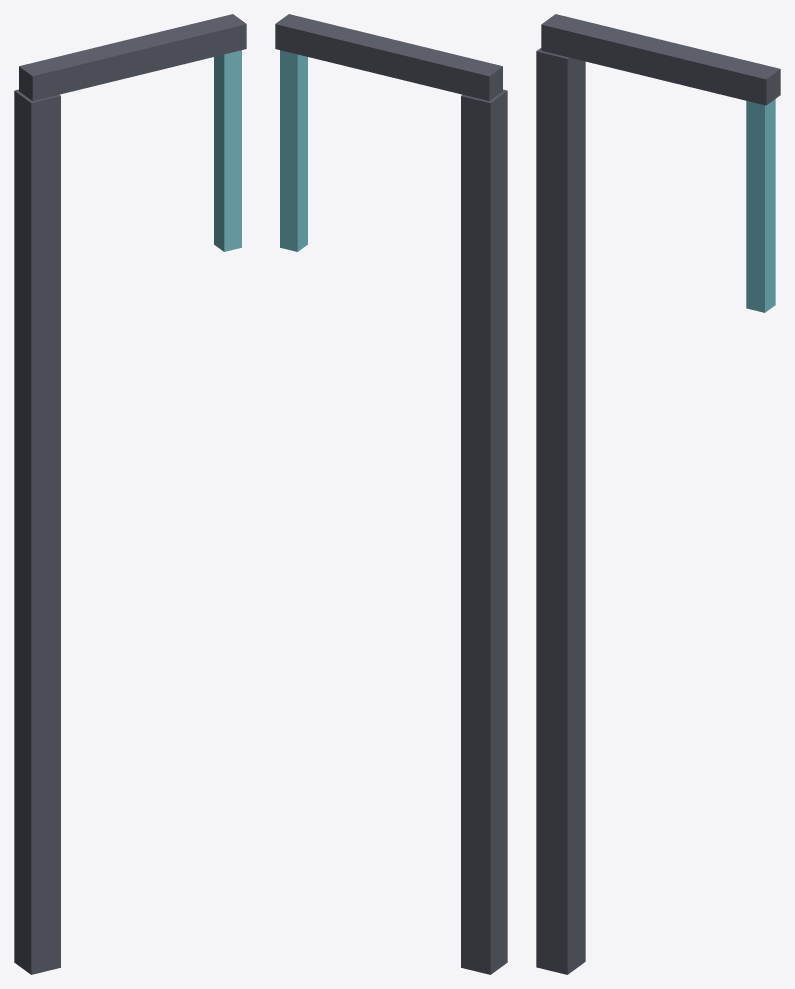
Rendered from c_laterne_b.glb.
3 views of the same model, side by side, from view 1: azimuth 30°, elevation 25°; view 2: azimuth 150°, elevation 25°; view 3: azimuth 330°, elevation 25° (orthographic). The views are drawn at different scales.
Parts seen in each view (by area): view 1: koerper, leuchten; view 2: koerper, leuchten; view 3: koerper, leuchten.
Part boxes in pixels (left/top/right/bottom): koerper: left=14, top=14, right=246, bottom=974; leuchten: left=214, top=50, right=241, bottom=251; koerper: left=275, top=14, right=507, bottom=974; leuchten: left=280, top=50, right=307, bottom=251; koerper: left=536, top=14, right=780, bottom=974; leuchten: left=746, top=99, right=775, bottom=312.
Bounding box in the file's own units: 1.83 × 7.2 × 0.25.
